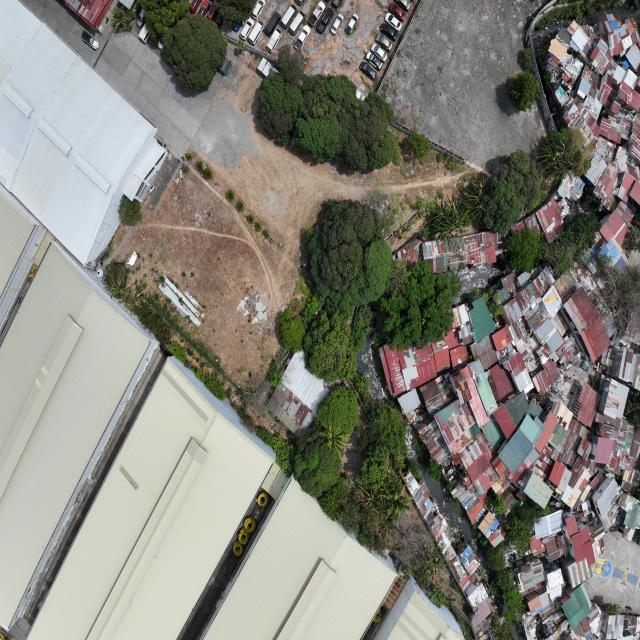Tree: (256, 72, 396, 174), (305, 224, 392, 316), (379, 258, 462, 351), (314, 199, 378, 290), (160, 12, 228, 94), (358, 455, 416, 539), (484, 149, 538, 237), (303, 318, 357, 386), (293, 426, 342, 498), (366, 401, 407, 474), (409, 538, 452, 594), (424, 195, 466, 250), (138, 0, 190, 44), (317, 386, 360, 437), (537, 129, 572, 185), (458, 173, 491, 228), (355, 443, 391, 493), (504, 228, 543, 274), (561, 126, 591, 180), (105, 270, 143, 312), (566, 210, 598, 256), (275, 309, 307, 354), (320, 419, 350, 460), (319, 479, 346, 524), (508, 75, 538, 114), (213, 0, 256, 27), (270, 434, 292, 479), (499, 586, 525, 624), (404, 131, 432, 166), (118, 196, 141, 230), (494, 568, 514, 593), (486, 495, 505, 517), (110, 6, 126, 31)
